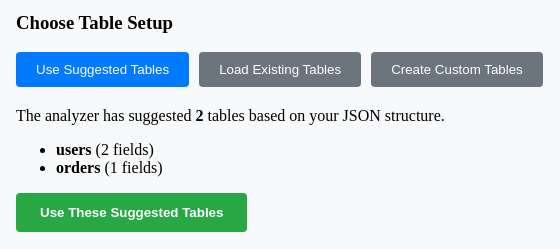
Test: TableSelector › should show loading state when fetching existing tables
The width and height of the screenshot is (560, 249).
Click the button "Load Existing Tables": (280, 70) [199, 52, 361, 87]
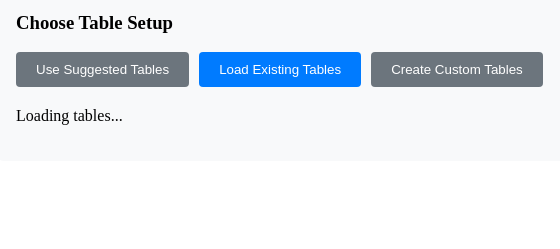
expect the text "Loading tables..." is shown: met, box [16, 107, 123, 124]
